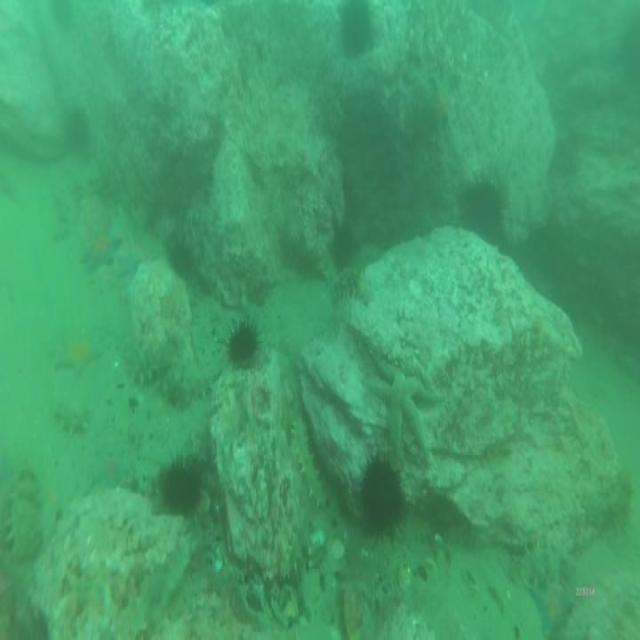echinus: (361, 460, 402, 531), (471, 175, 501, 237), (340, 0, 372, 57), (162, 462, 196, 508), (230, 319, 256, 362), (171, 238, 193, 276)
holothurian: (5, 472, 42, 556), (295, 420, 328, 508), (514, 538, 562, 582), (124, 344, 170, 388), (180, 354, 222, 393), (51, 398, 89, 438), (331, 267, 368, 305), (57, 171, 75, 224)
scallop: (270, 583, 300, 626), (344, 591, 363, 640), (433, 537, 453, 572), (396, 560, 414, 592), (212, 551, 226, 577), (307, 528, 325, 548), (335, 537, 345, 564)
starfish: (362, 357, 437, 454), (532, 583, 572, 635), (57, 326, 99, 370), (88, 229, 116, 269)
